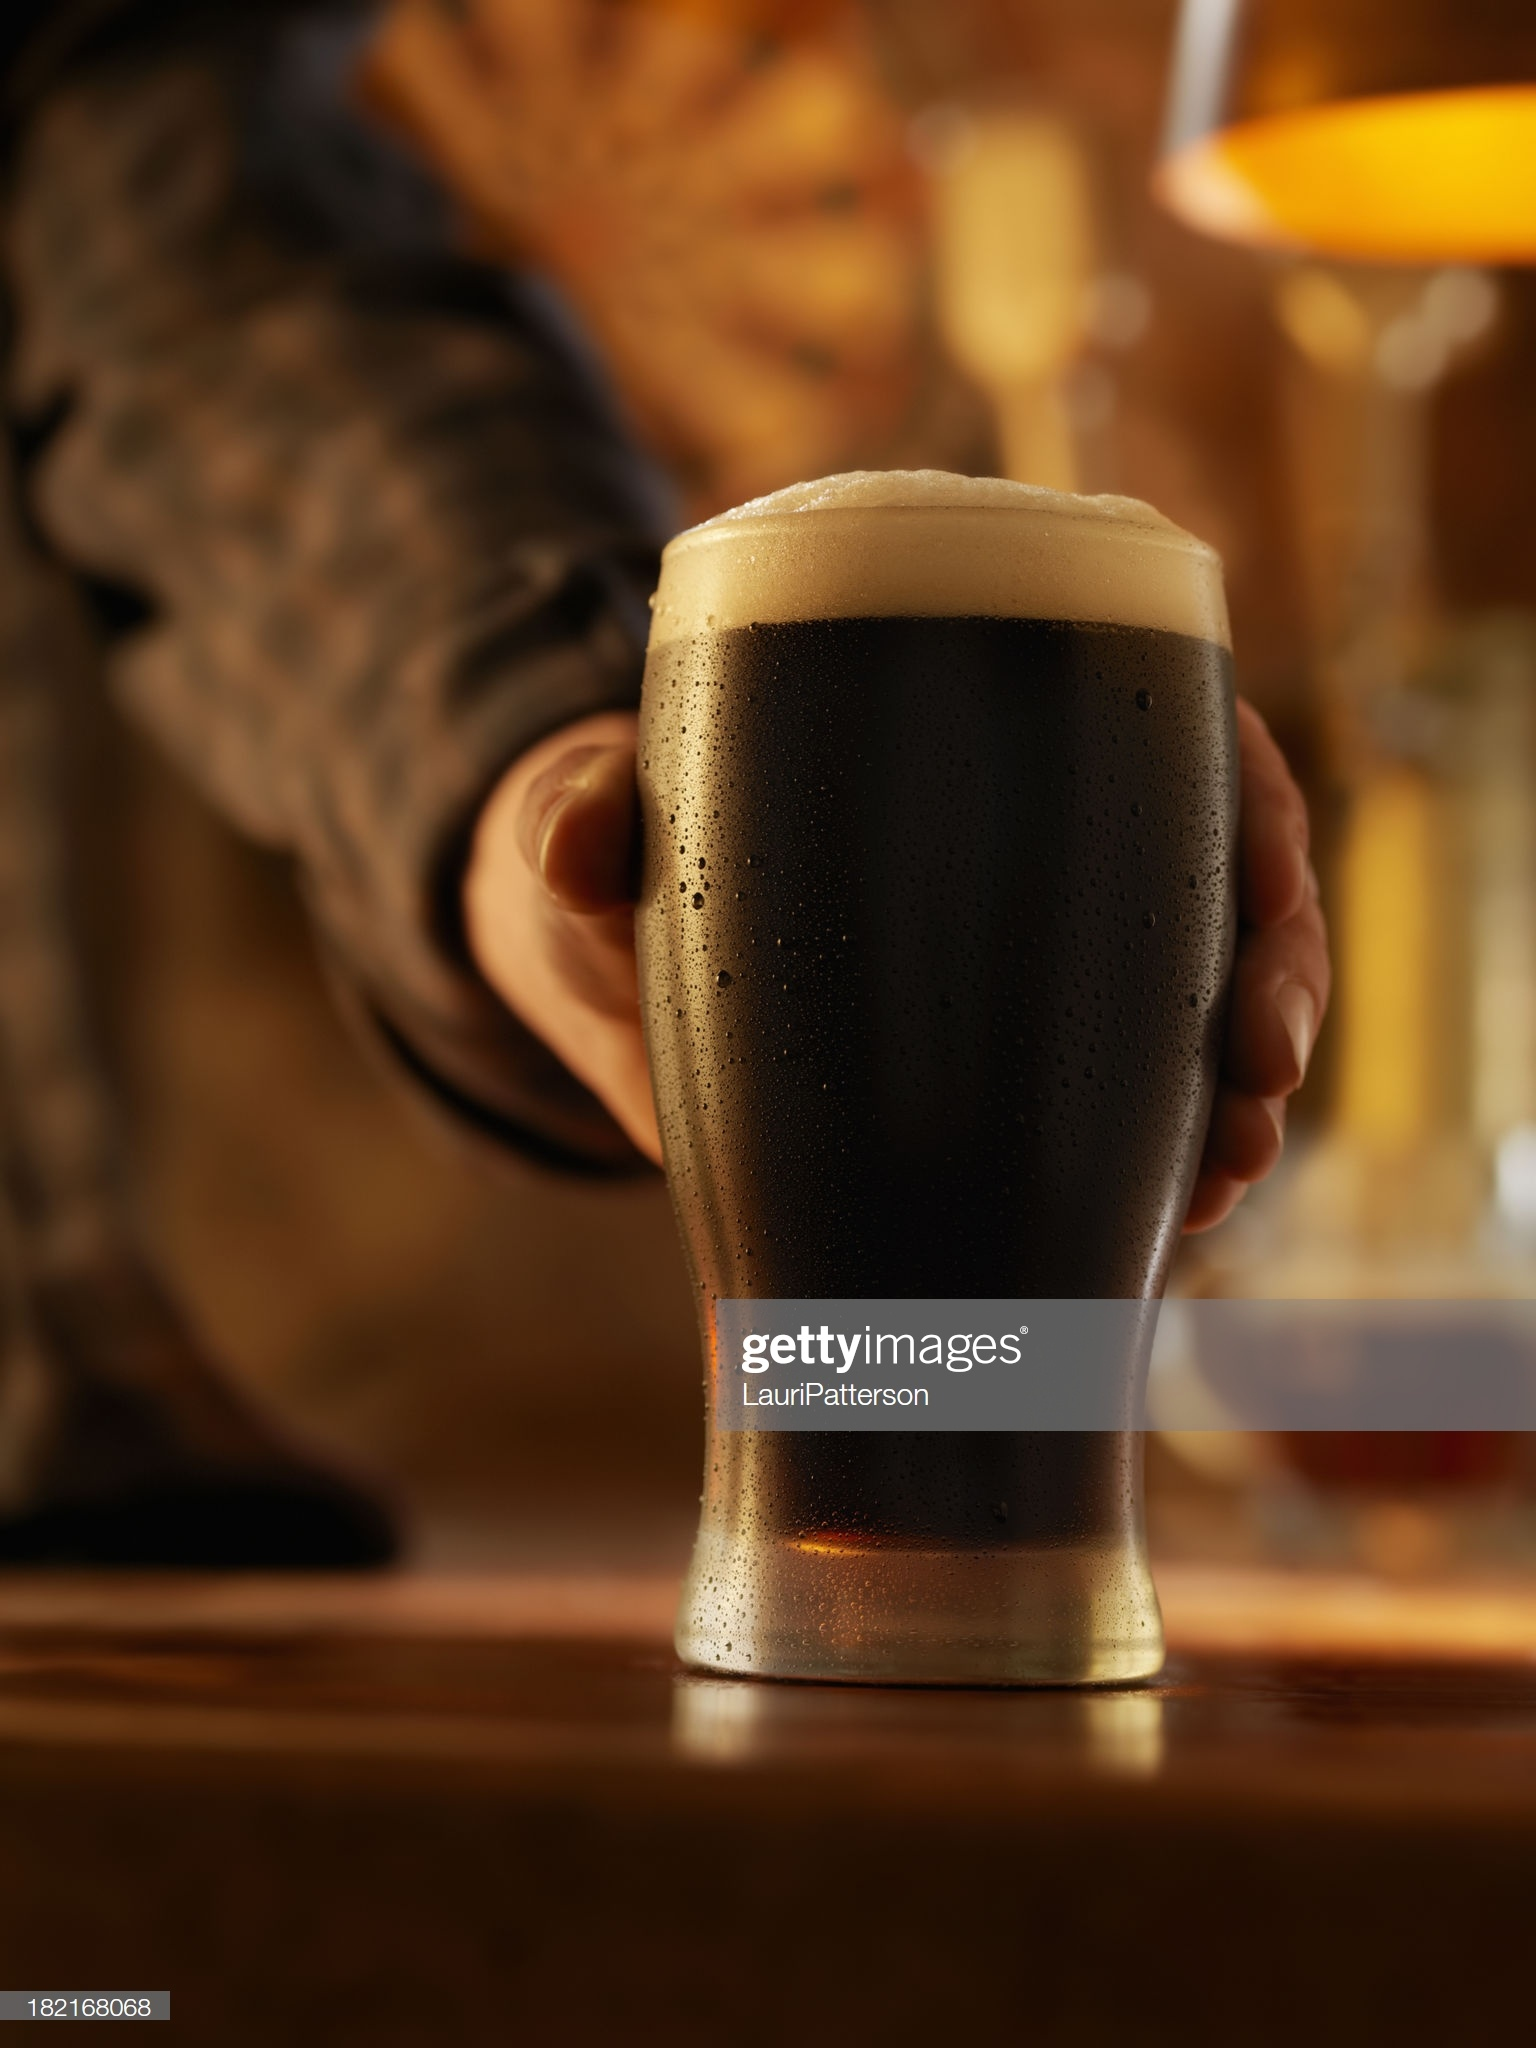glassBeer: (620, 479, 1250, 1708)
